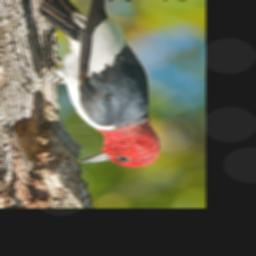Woodpecker: (31, 0, 160, 170)
